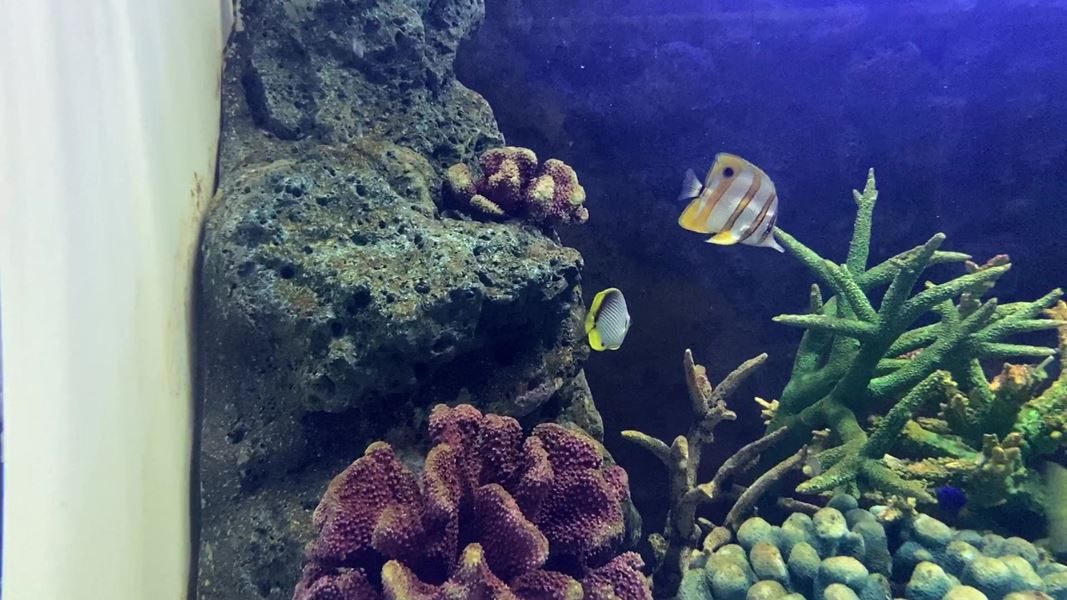Black-backed butterflyfish: (570, 282, 638, 358)
